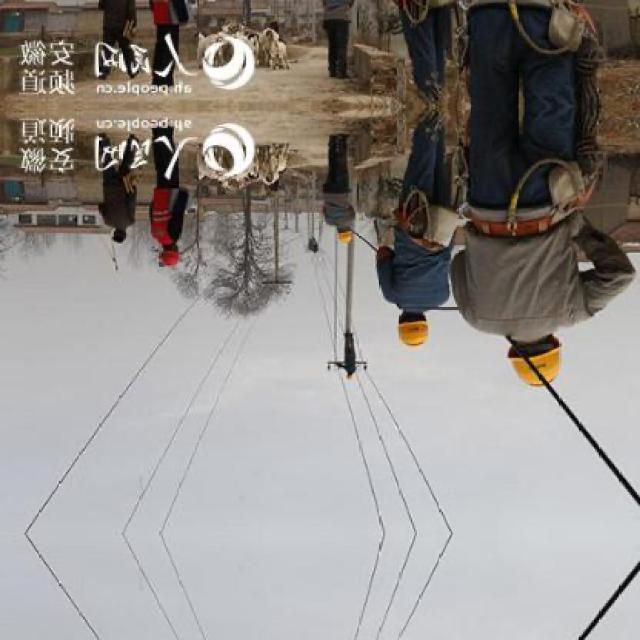con casco: (504, 325, 588, 400), (146, 226, 195, 286), (379, 307, 443, 350)
